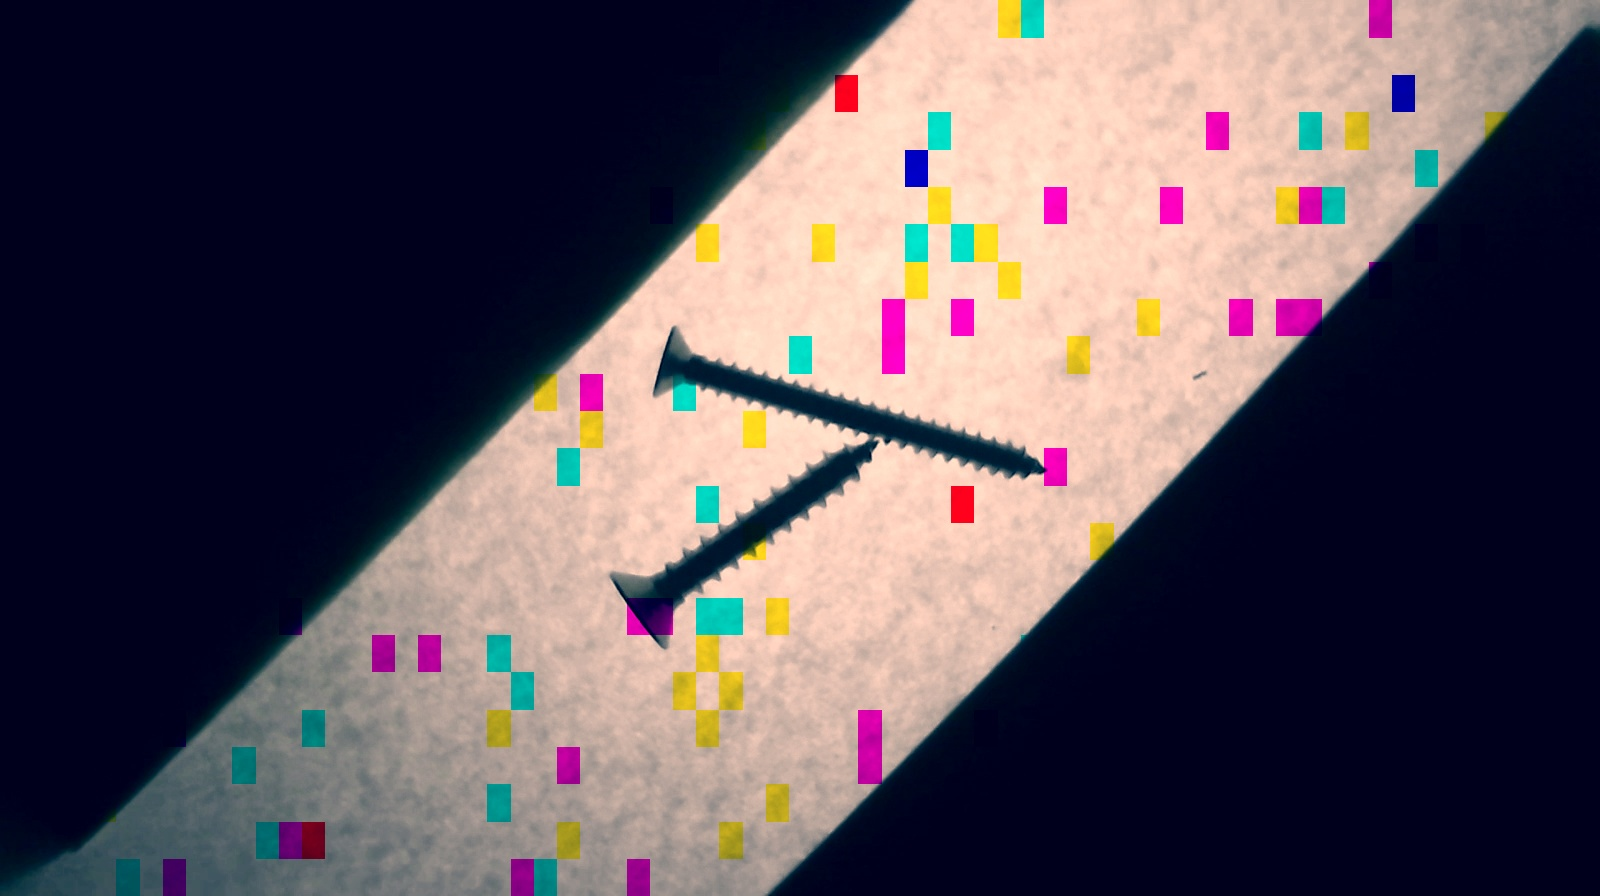S001: (605, 440, 878, 650)
S002: (653, 324, 1043, 480)
